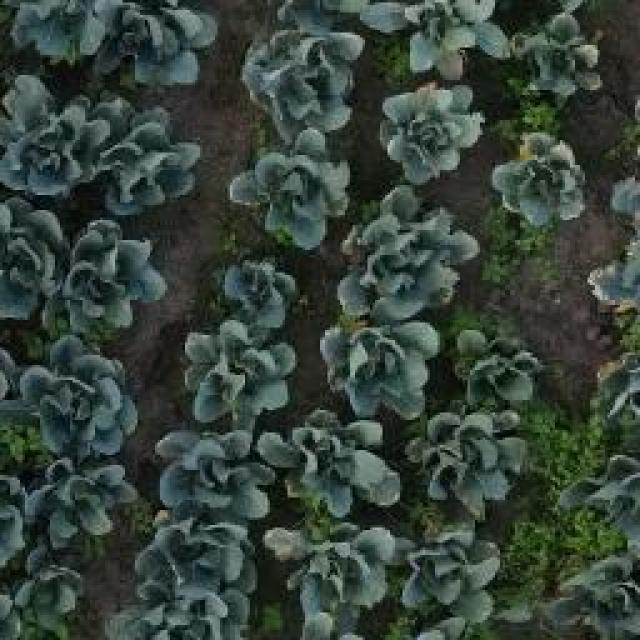cabbage: (346, 188, 479, 303), (242, 15, 368, 136), (261, 516, 395, 627), (21, 337, 139, 458), (320, 297, 436, 419), (53, 221, 169, 343), (0, 77, 111, 198), (150, 423, 278, 521), (181, 318, 296, 426), (136, 514, 262, 610), (396, 520, 502, 634), (412, 408, 526, 512), (285, 416, 401, 514), (101, 101, 200, 214), (234, 146, 344, 242), (25, 457, 137, 548), (378, 84, 484, 178), (493, 131, 592, 231), (517, 0, 609, 107), (382, 0, 502, 78), (115, 0, 218, 87), (0, 0, 115, 70), (450, 325, 539, 411), (0, 198, 63, 318), (8, 544, 93, 618), (220, 248, 299, 317)
